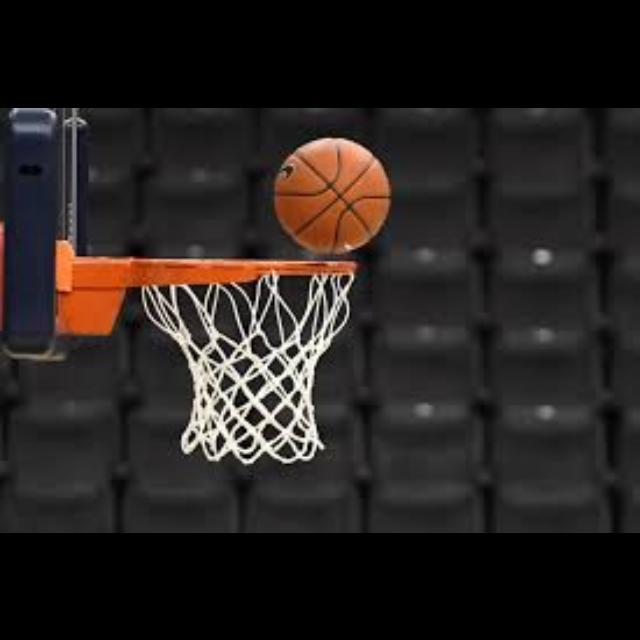basketball: (276, 138, 389, 252)
rim: (130, 258, 356, 464)
